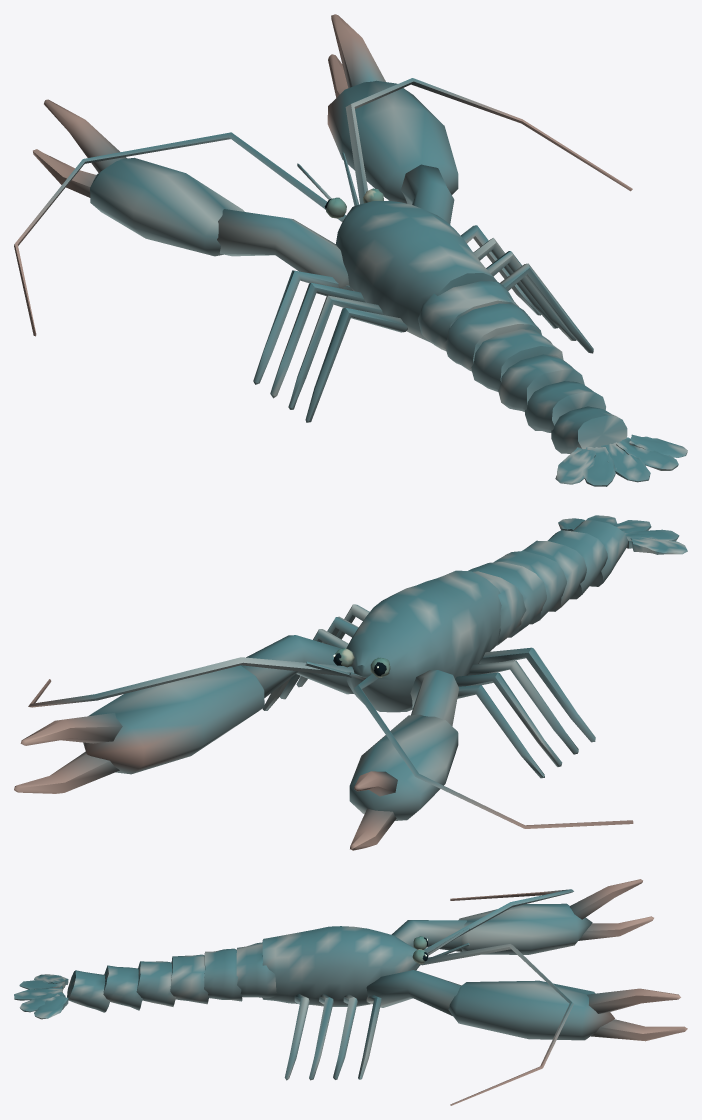
File: lobster.glb
3 views of the same model, one above another, from view 1: azimuth 30°, elevation 25°; view 2: azimuth 150°, elevation 25°; view 3: azimuth 270°, elevation 25° (orthographic). The views are drawn at different scales.
Parts seen in each view (by area): view 1: lobster; view 2: lobster; view 3: lobster.
Part boxes in pixels (x1,y1,x2,y2): lobster: (14,14,687,486); lobster: (14,515,687,850); lobster: (14,879,687,1105).
Bounding box in the file's own units: 0.8036 × 0.1984 × 1.11.
